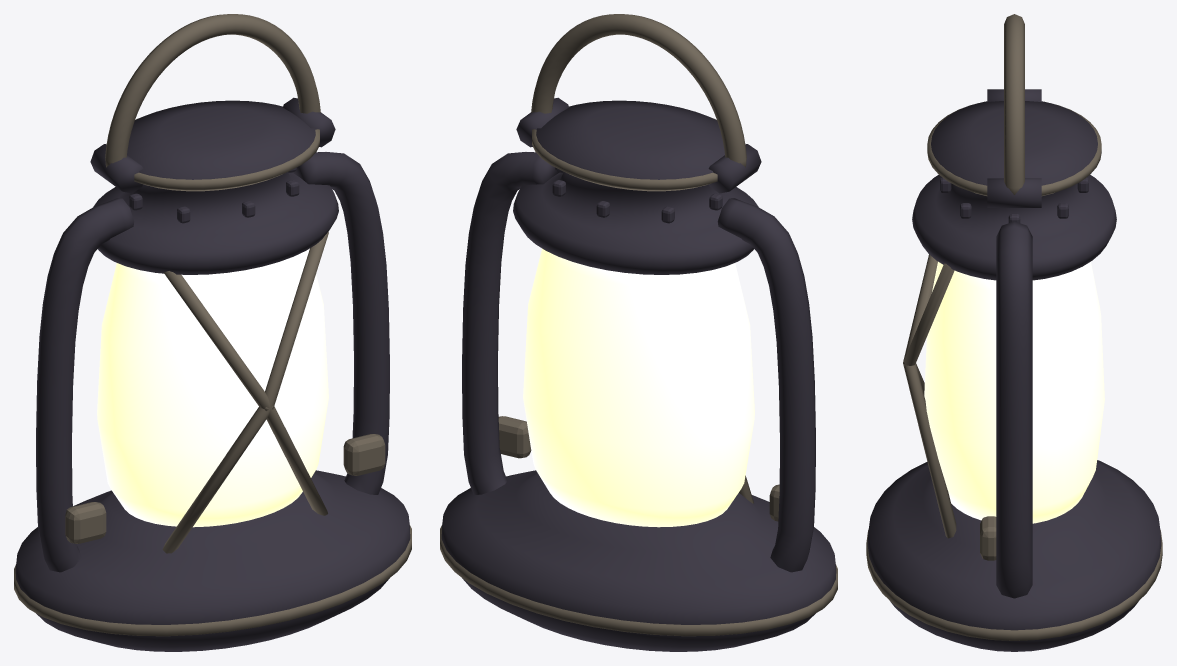
The model's file is hunter-lantern.glb.
The picture shows the model from 3 angles, left to right: view 1: azimuth 30°, elevation 25°; view 2: azimuth 150°, elevation 25°; view 3: azimuth 270°, elevation 25°; orthographic projection. The views are drawn at different scales.
Visible parts, largest first — view 1: hunter-lantern; view 2: hunter-lantern; view 3: hunter-lantern.
Part boxes in pixels (<box>): hunter-lantern: <box>14,14,411,651</box>; hunter-lantern: <box>440,14,837,651</box>; hunter-lantern: <box>866,14,1162,651</box>.
Size of the model in its own units: 0.502 by 0.7585 by 0.3614.
